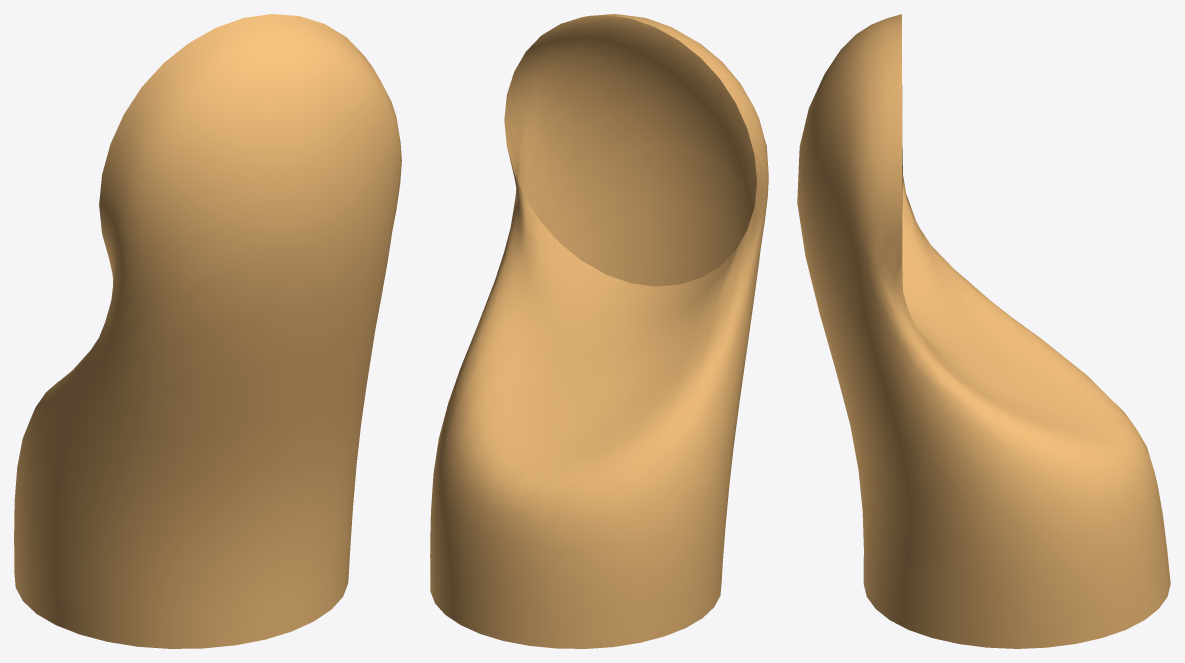
Rendered from arm_segment_last.dae.
3 renders of one model, left to right at view 1: azimuth 30°, elevation 25°; view 2: azimuth 150°, elevation 25°; view 3: azimuth 270°, elevation 25°, orthographic. The views are drawn at different scales.
Visible parts, largest first — view 1: last_segment; view 2: last_segment; view 3: last_segment.
Boxes of the visible parts, x1,y1,x2,y2 form: last_segment: (14,14,401,648); last_segment: (430,14,768,648); last_segment: (797,14,1170,648).
Size of the model in its own units: 0.1253 by 0.1473 by 0.2421.
